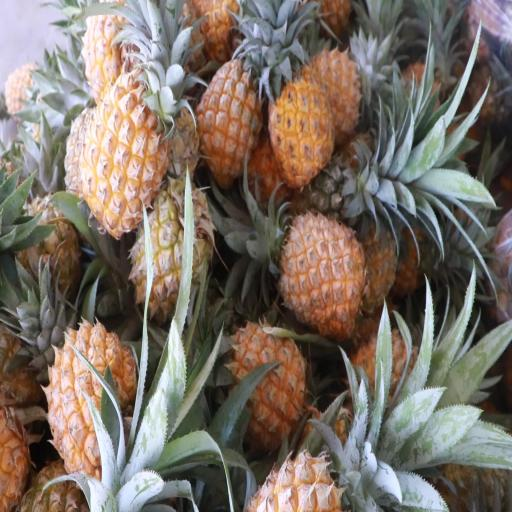------------------------------: (134, 187, 210, 316)
Pineapple - v8 v1: (49, 325, 133, 479), (83, 86, 167, 230), (279, 213, 364, 328), (226, 324, 308, 434), (196, 61, 266, 183), (270, 71, 335, 180), (84, 13, 143, 90)
